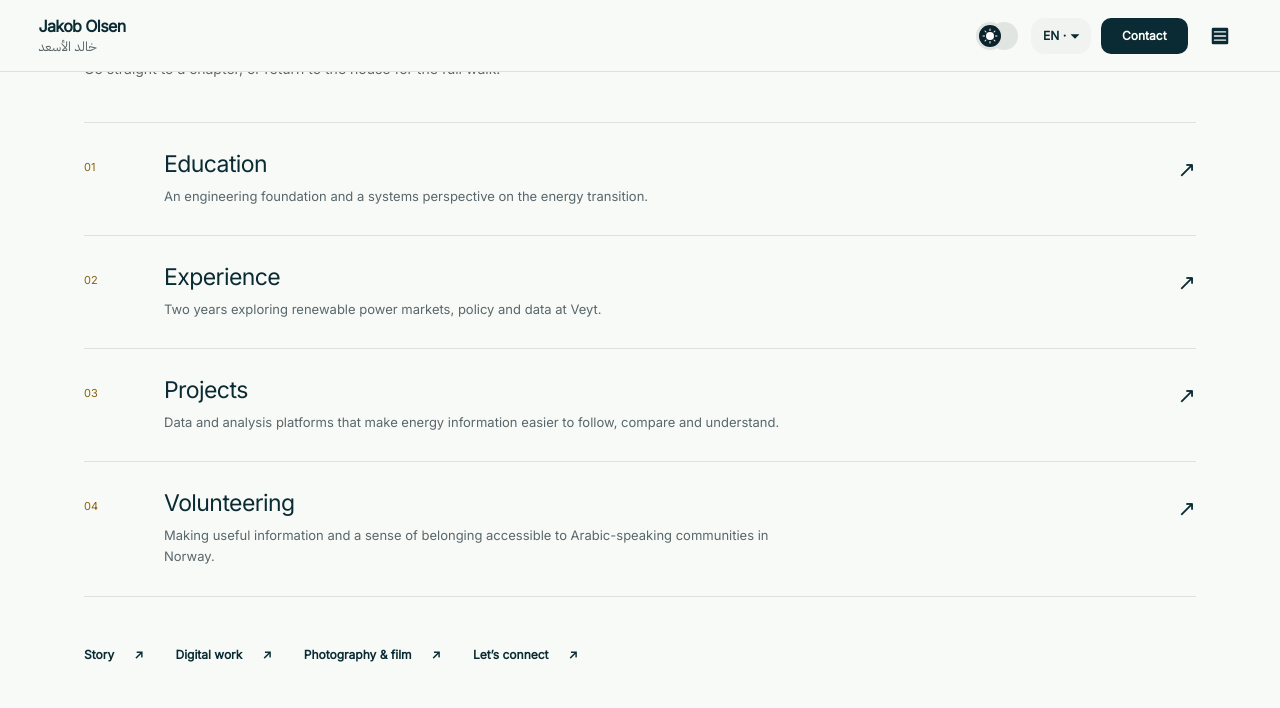
house controls preserve content and native gestures › keeps downloaded-preview navigation working when History API writes are restricted
(page scrolled)
Click the link "Projects" at [206, 390], box [84,349,1196,462]
(page scrolled)
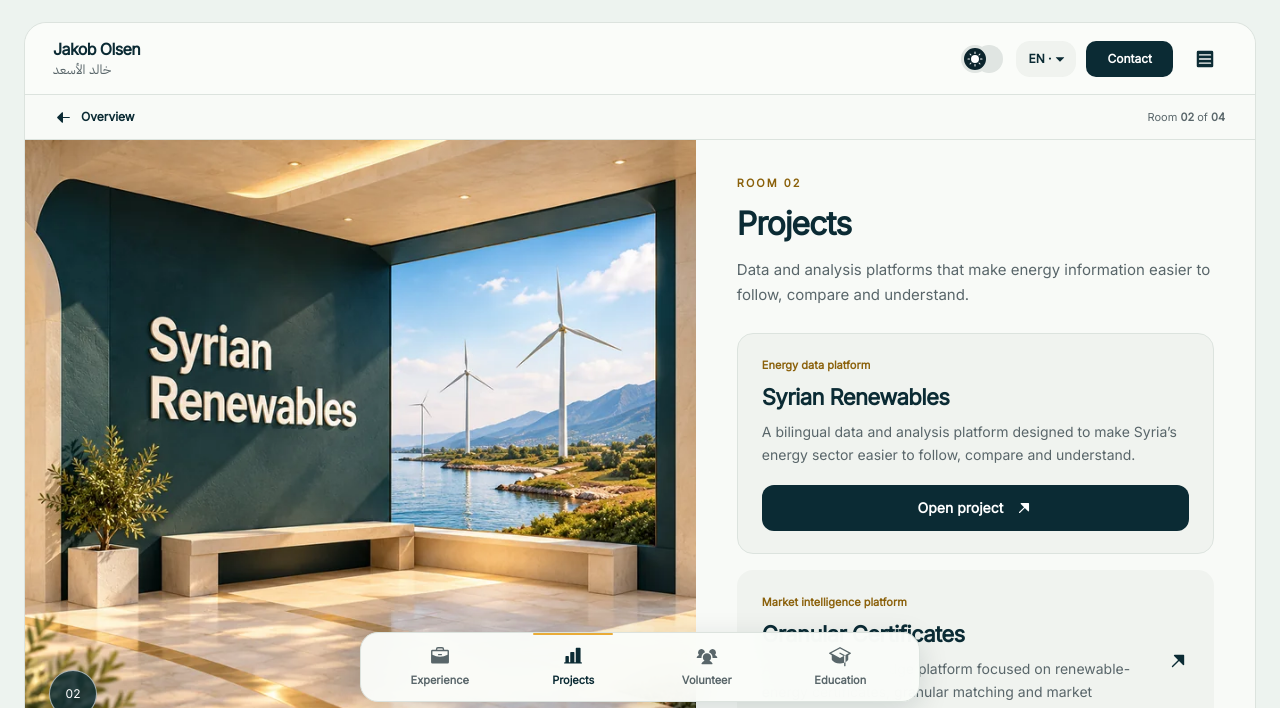
Check: the heading "Projects" is shown, box [737,204,851,243]
